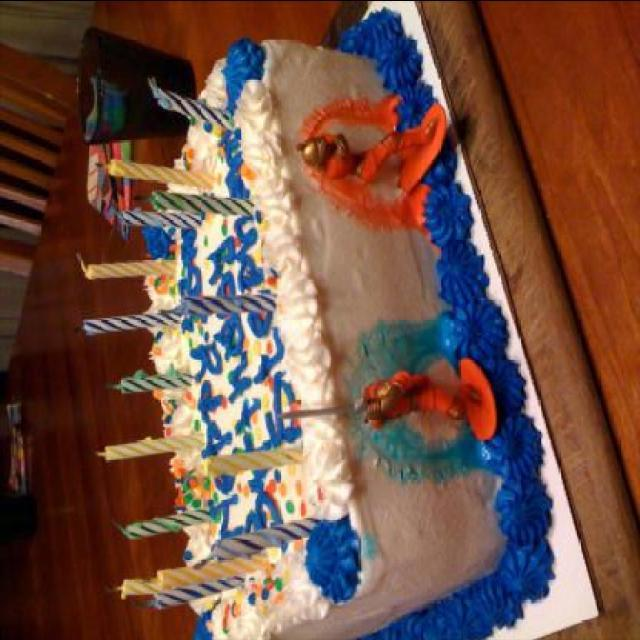Cake: (142, 8, 553, 640)
